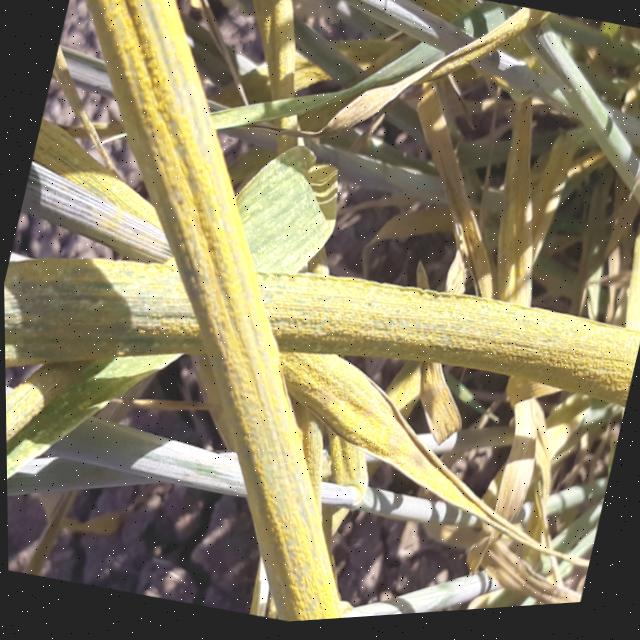yellow_rust: (0, 0, 515, 640), (2, 131, 640, 548), (235, 331, 626, 628), (427, 80, 640, 389), (484, 6, 564, 87)
